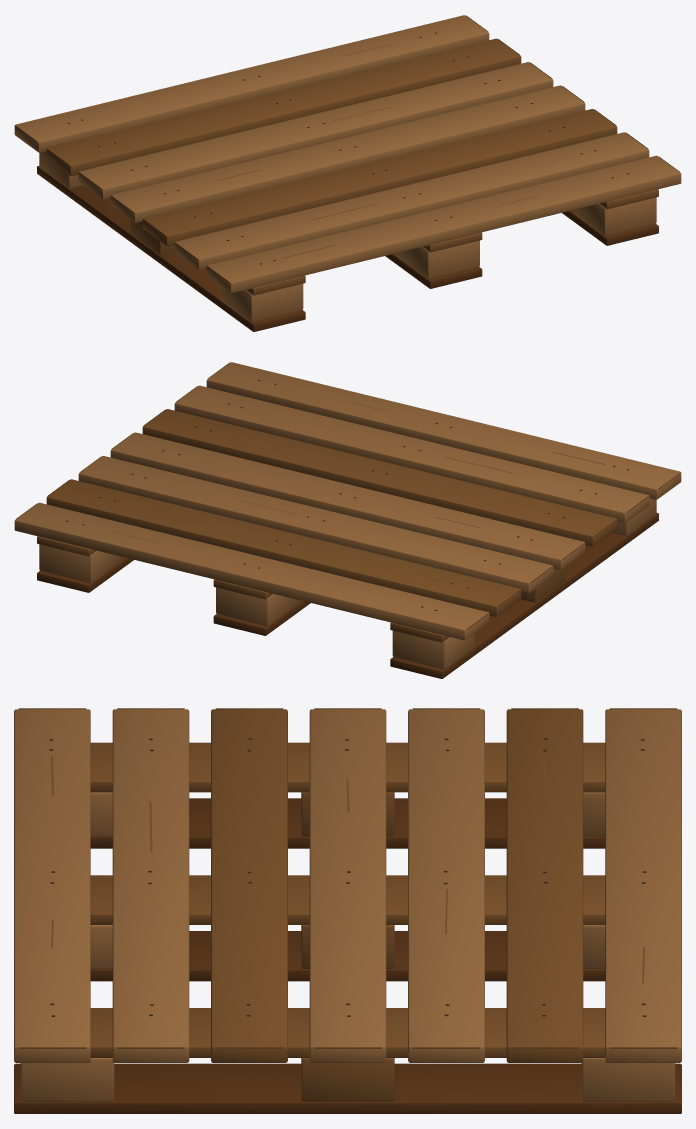
Rendered from delivery_wooden_pallet.glb.
3 views of the same model, one above another, from view 1: azimuth 30°, elevation 25°; view 2: azimuth 150°, elevation 25°; view 3: azimuth 270°, elevation 25° (orthographic). The views are drawn at different scales.
Visible parts, largest first — view 1: TOP_BOARD_01, TOP_BOARD_02, TOP_BOARD_07, TOP_BOARD_04, TOP_BOARD_05, TOP_BOARD_06, TOP_BOARD_03, LOWER_BOARD_LEFT, BLOCK_LEFT_FRONT, BLOCK_RIGHT_FRONT, BLOCK_CENTER_FRONT, LOWER_BOARD_CENTER (+5 smaller); view 2: TOP_BOARD_07, TOP_BOARD_06, TOP_BOARD_04, TOP_BOARD_05, TOP_BOARD_01, TOP_BOARD_03, TOP_BOARD_02, LOWER_BOARD_LEFT, BLOCK_LEFT_BACK, BLOCK_RIGHT_BACK, BLOCK_CENTER_BACK, LOWER_BOARD_CENTER (+5 smaller); view 3: TOP_BOARD_04, TOP_BOARD_06, TOP_BOARD_02, TOP_BOARD_07, TOP_BOARD_05, TOP_BOARD_03, TOP_BOARD_01, LOWER_BOARD_RIGHT, STRINGER_CAP_LEFT, STRINGER_CAP_CENTER, STRINGER_CAP_RIGHT, LOWER_BOARD_CENTER (+12 smaller).
Part boxes in pixels (<box>): TOP_BOARD_01: <box>206,155,681,293</box>; TOP_BOARD_02: <box>174,132,649,269</box>; TOP_BOARD_07: <box>14,15,489,152</box>; TOP_BOARD_04: <box>110,85,585,222</box>; TOP_BOARD_05: <box>78,62,553,199</box>; TOP_BOARD_06: <box>46,38,521,175</box>; TOP_BOARD_03: <box>142,109,617,246</box>; LOWER_BOARD_LEFT: <box>37,166,305,331</box>; BLOCK_LEFT_FRONT: <box>221,283,303,322</box>; BLOCK_RIGHT_FRONT: <box>575,197,656,235</box>; BLOCK_CENTER_FRONT: <box>398,240,479,278</box>; LOWER_BOARD_CENTER: <box>385,253,482,288</box>; TOP_BOARD_07: <box>14,502,489,640</box>; TOP_BOARD_06: <box>46,479,521,616</box>; TOP_BOARD_04: <box>110,432,585,569</box>; TOP_BOARD_05: <box>78,456,553,593</box>; TOP_BOARD_01: <box>206,362,681,499</box>; TOP_BOARD_03: <box>142,409,617,546</box>; TOP_BOARD_02: <box>174,385,649,522</box>; LOWER_BOARD_LEFT: <box>390,513,658,678</box>; BLOCK_LEFT_BACK: <box>392,630,474,669</box>; BLOCK_RIGHT_BACK: <box>39,544,120,582</box>; BLOCK_CENTER_BACK: <box>216,587,297,625</box>; LOWER_BOARD_CENTER: <box>213,600,310,635</box>; TOP_BOARD_04: <box>309,709,386,1062</box>; TOP_BOARD_06: <box>506,709,583,1062</box>; TOP_BOARD_02: <box>112,709,189,1062</box>; TOP_BOARD_07: <box>605,709,681,1062</box>; TOP_BOARD_05: <box>408,709,484,1062</box>; TOP_BOARD_03: <box>211,709,287,1062</box>; TOP_BOARD_01: <box>14,709,90,1062</box>; LOWER_BOARD_RIGHT: <box>14,1063,681,1113</box>; STRINGER_CAP_LEFT: <box>90,742,605,792</box>; STRINGER_CAP_CENTER: <box>90,875,605,924</box>; STRINGER_CAP_RIGHT: <box>90,1008,605,1057</box>; LOWER_BOARD_CENTER: <box>90,931,605,981</box>.
Bounding box in the file's own units: 1.2 × 0.14 × 1.
